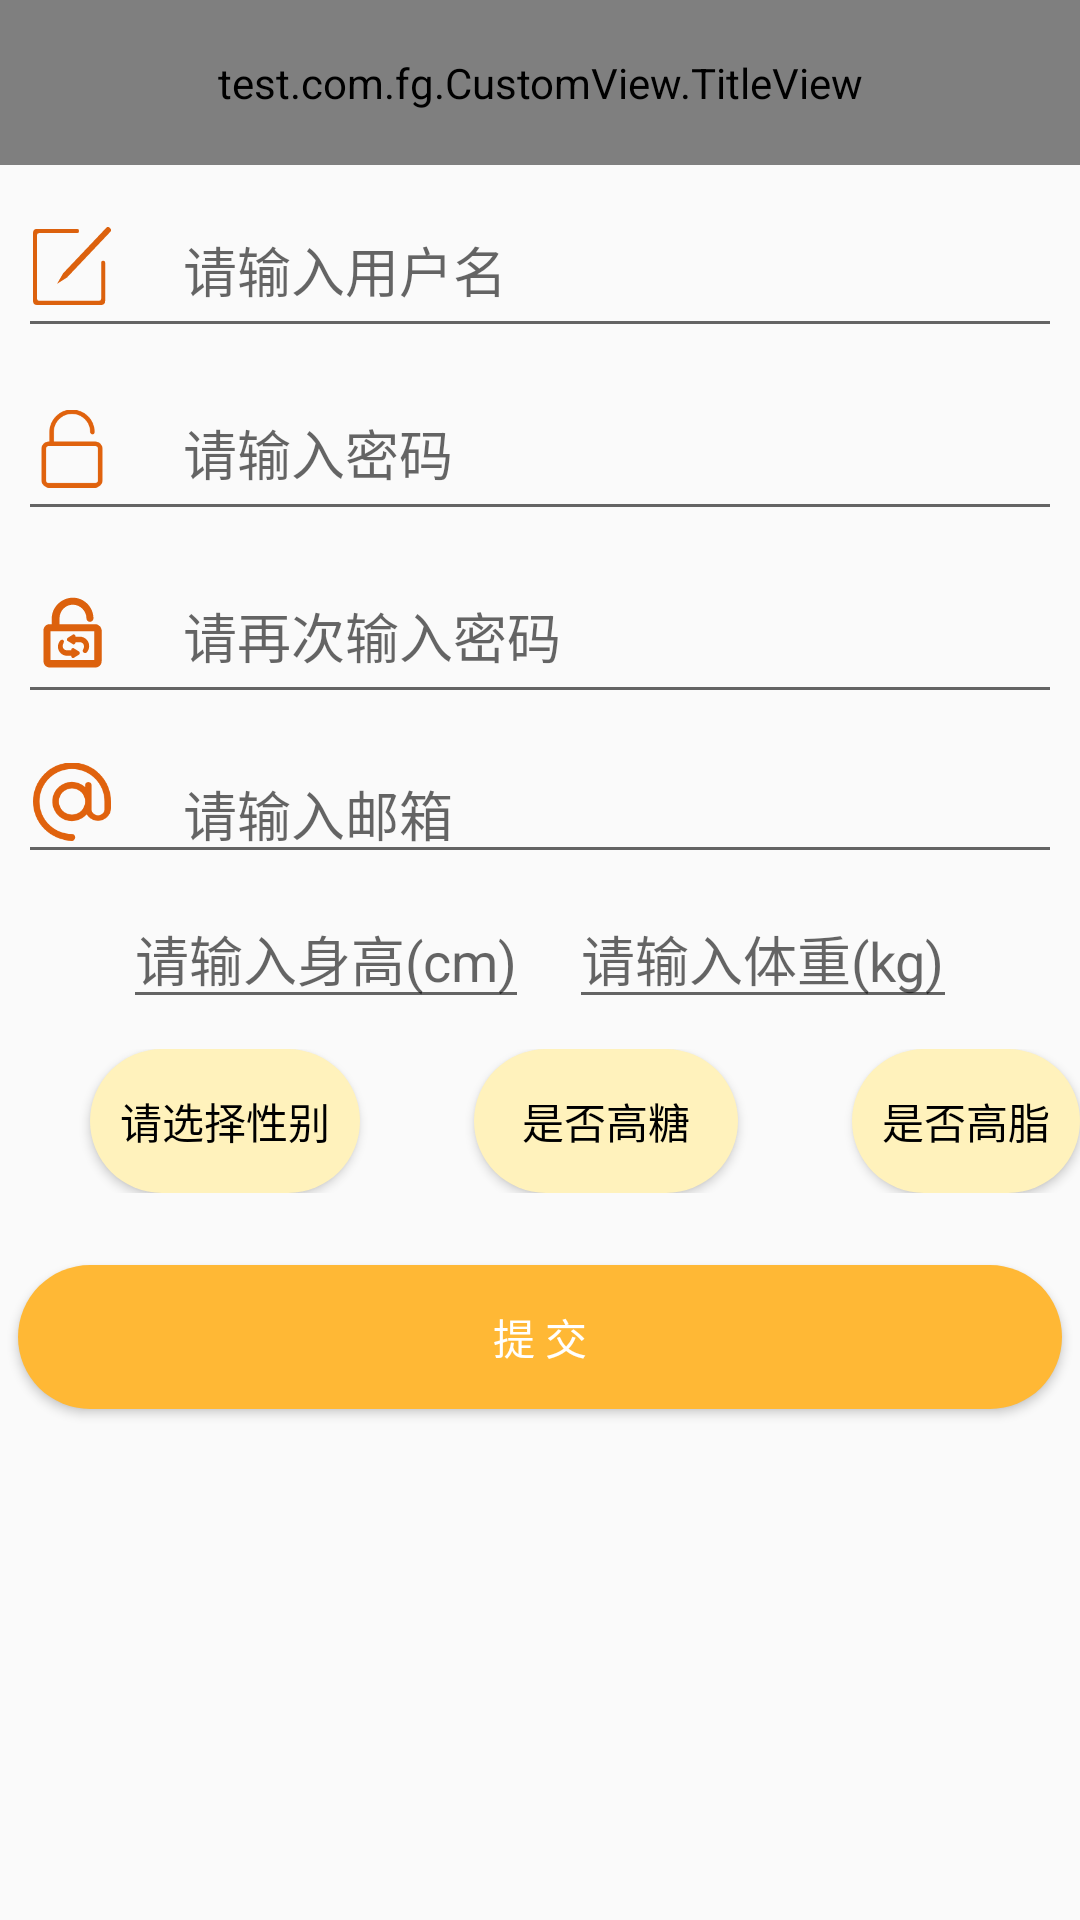

Where to tap for icons on this 1080 x 1920 app screen, as point (x, y):
email: point (72, 802)
password: point (72, 449)
repwd: point (72, 632)
